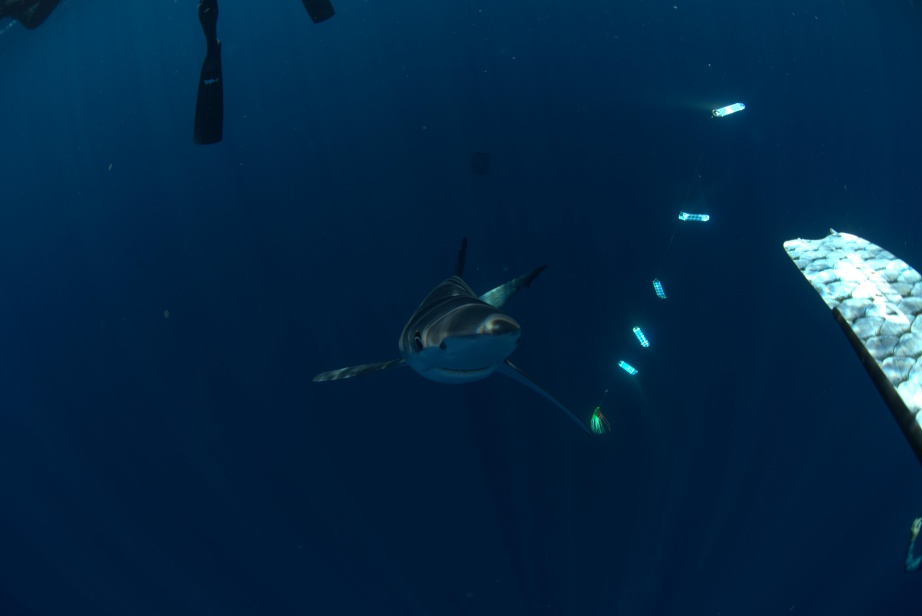Azul: (289, 232, 631, 444)
